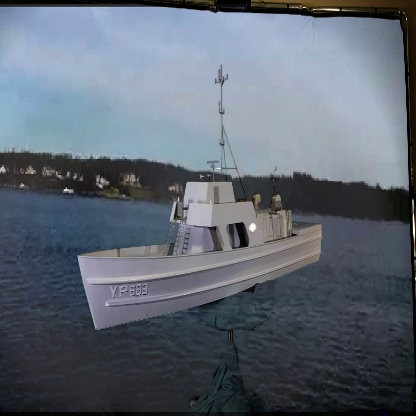YP689: (77, 63, 324, 333)
